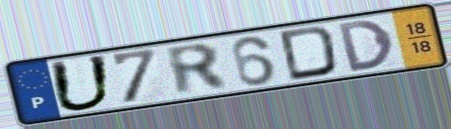6: (229, 34, 279, 89)
7: (111, 47, 161, 107)
D: (277, 24, 341, 83), (334, 17, 397, 74)
R: (162, 41, 234, 98)
U: (47, 53, 116, 114)
